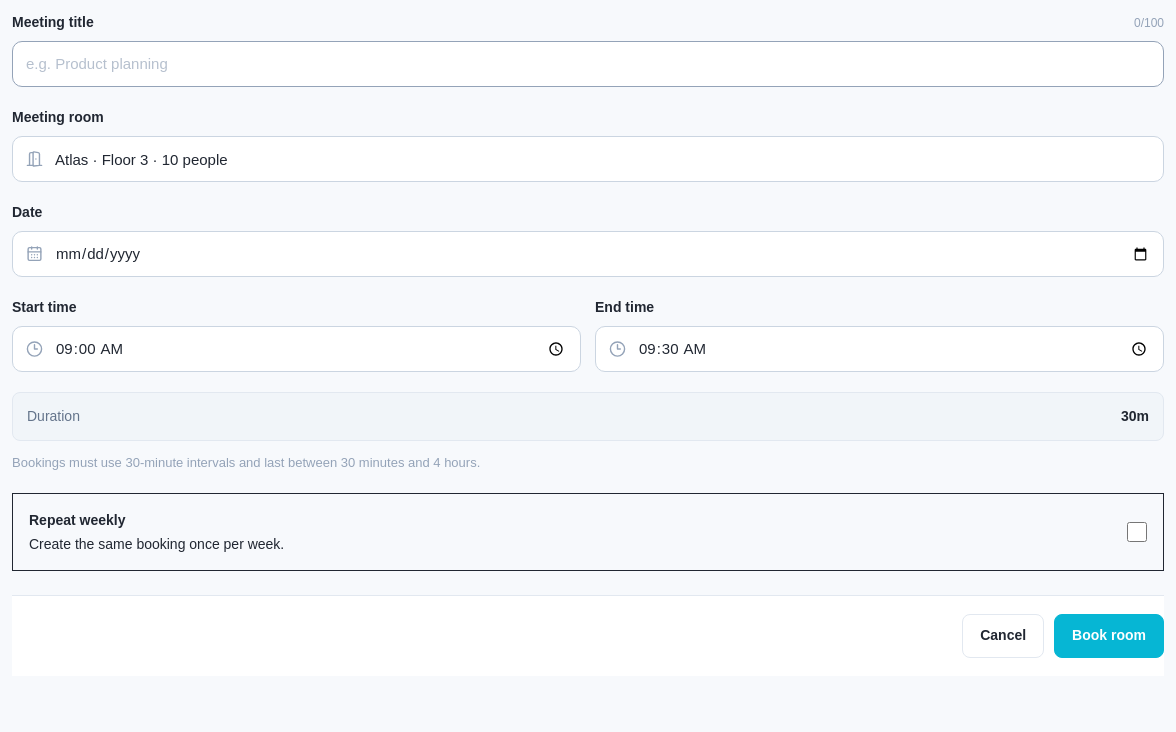
BookingForm fields › updates the meeting title
Type "Product planning" into the field labelled "Meeting title" at (588, 64), box [12,41,1164,87]
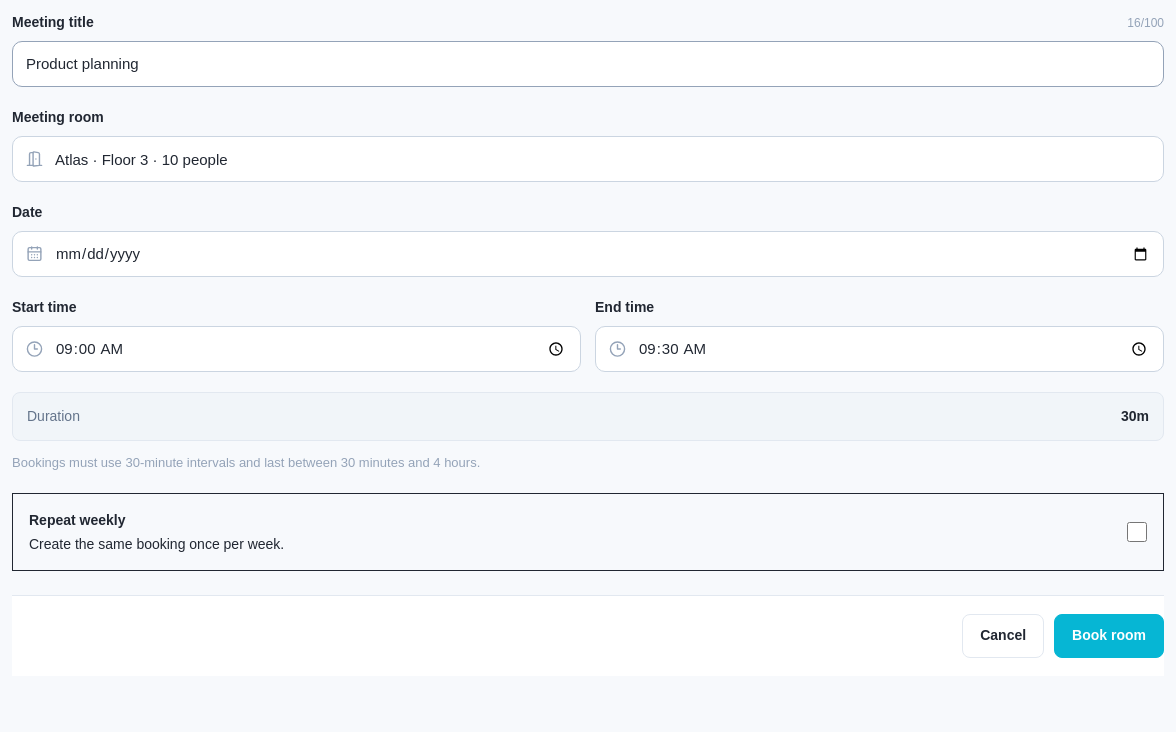
Result: the text "16/100" is shown at [1127,14,1164,32]
